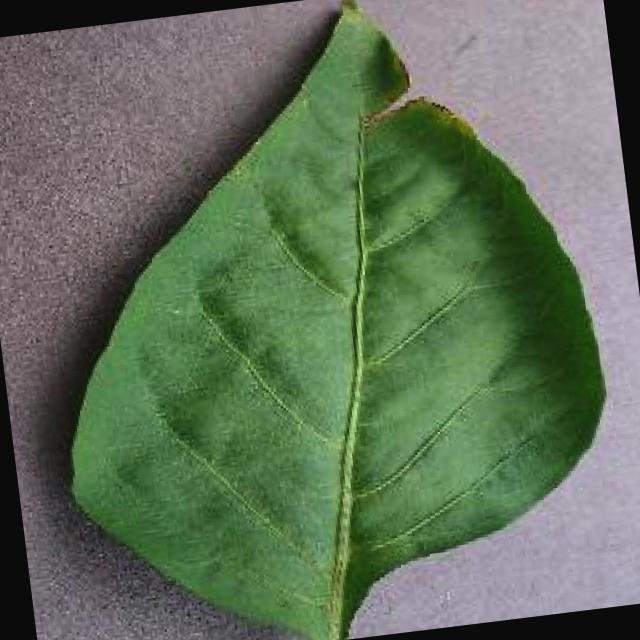Leaf: (91, 149, 530, 532)
